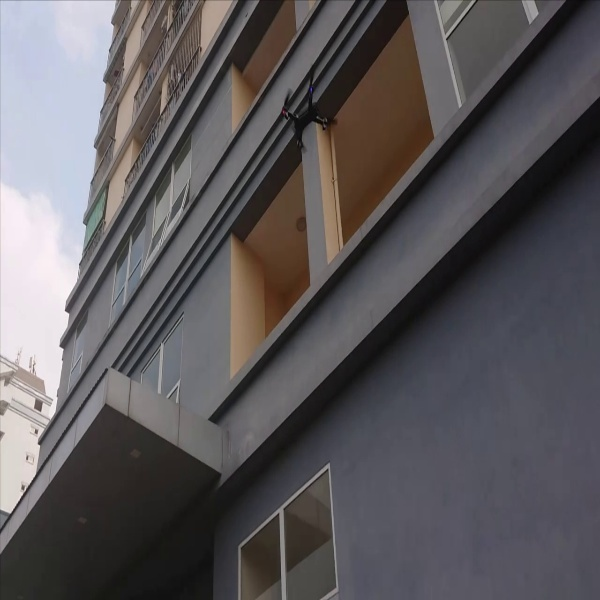drone: (276, 72, 343, 156)
